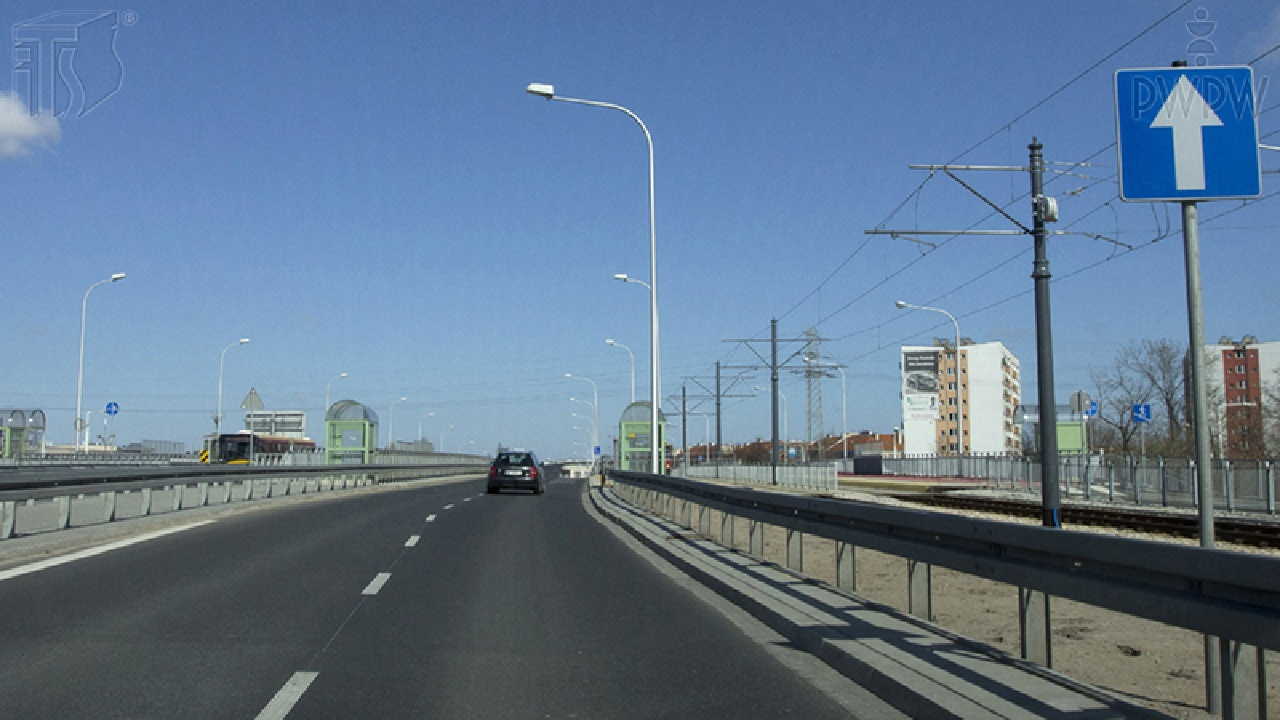D3: (1114, 69, 1260, 199)
